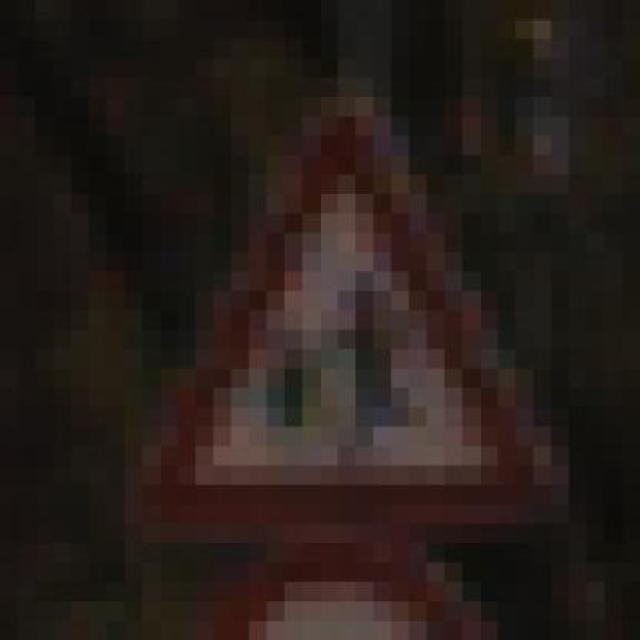Beware of children: (71, 97, 569, 543)
